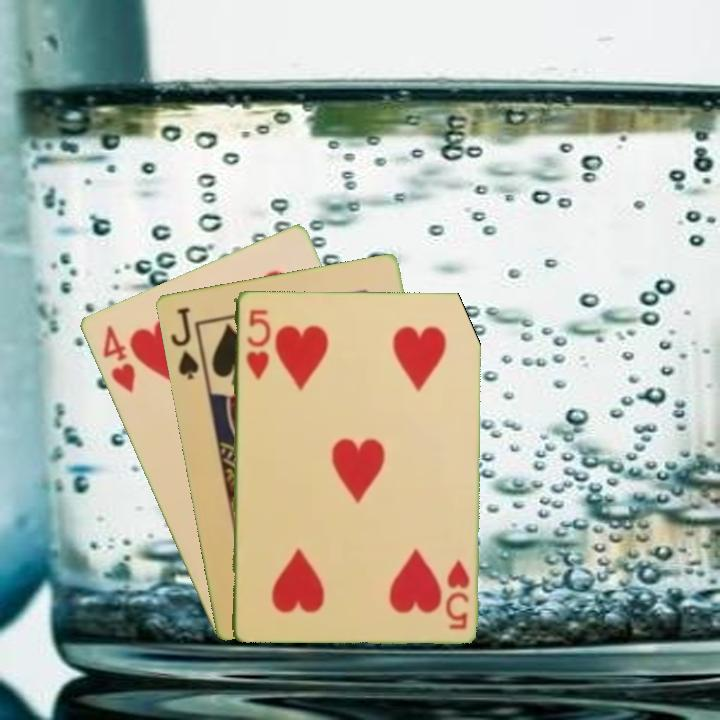4h: (98, 321, 138, 396)
5h: (442, 556, 472, 631), (242, 306, 271, 383)
Js: (166, 303, 201, 383)
